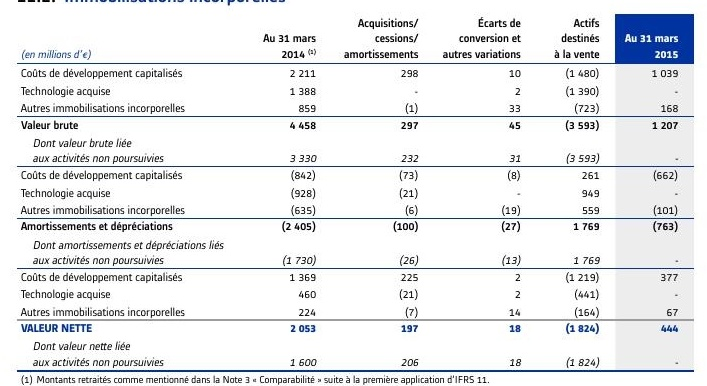table: (0, 0, 707, 386)
